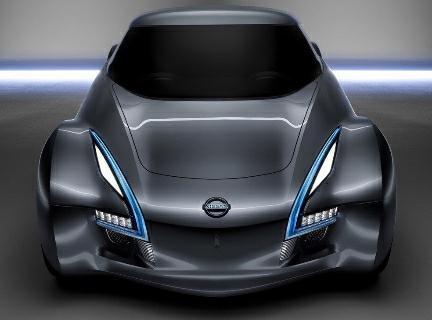日产-Esflow: (36, 6, 397, 302)
